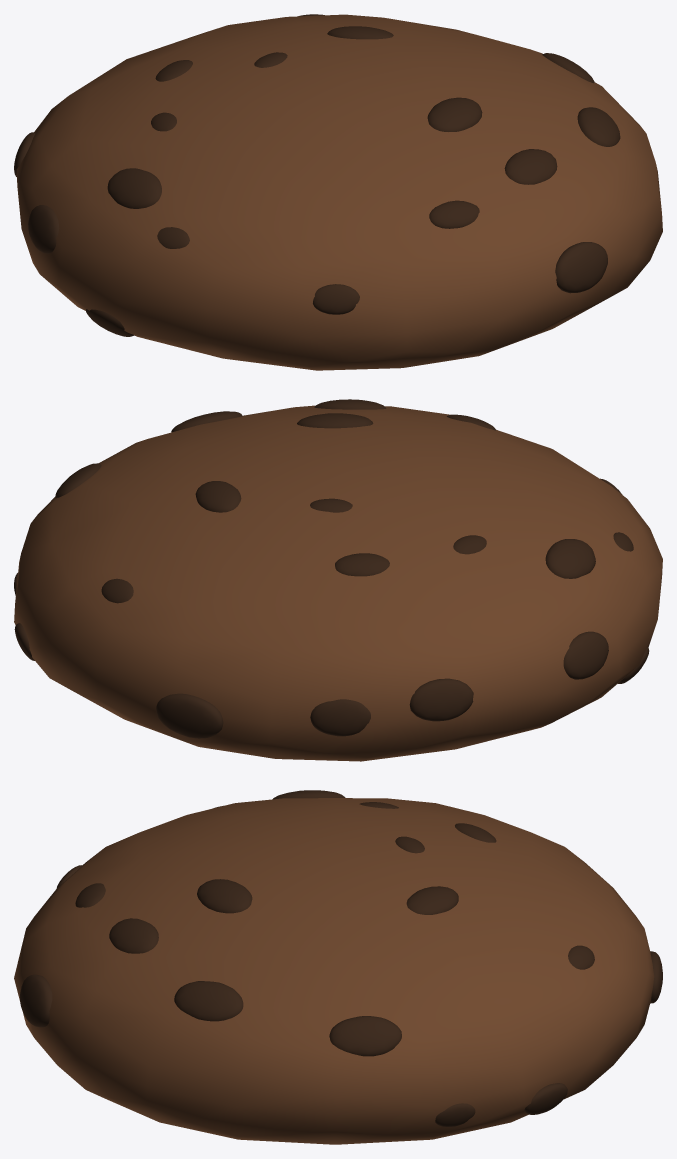
Rendered from Cookie.fbx.
3 renders of one model, top to bottom at view 1: azimuth 30°, elevation 25°; view 2: azimuth 150°, elevation 25°; view 3: azimuth 270°, elevation 25°, orthographic.
Visible parts, largest first — view 1: Cookie, Chocolate.031; view 2: Cookie, Chocolate.031; view 3: Cookie, Chocolate.031.
Part boxes in pixels (bbox=[...]): Cookie: bbox=[16, 14, 662, 370]; Chocolate.031: bbox=[14, 14, 620, 336]; Cookie: bbox=[14, 405, 662, 761]; Chocolate.031: bbox=[14, 399, 649, 738]; Cookie: bbox=[14, 798, 654, 1144]; Chocolate.031: bbox=[20, 790, 662, 1126].
Size of the model in its own units: 71.7 by 23.24 by 72.45.
